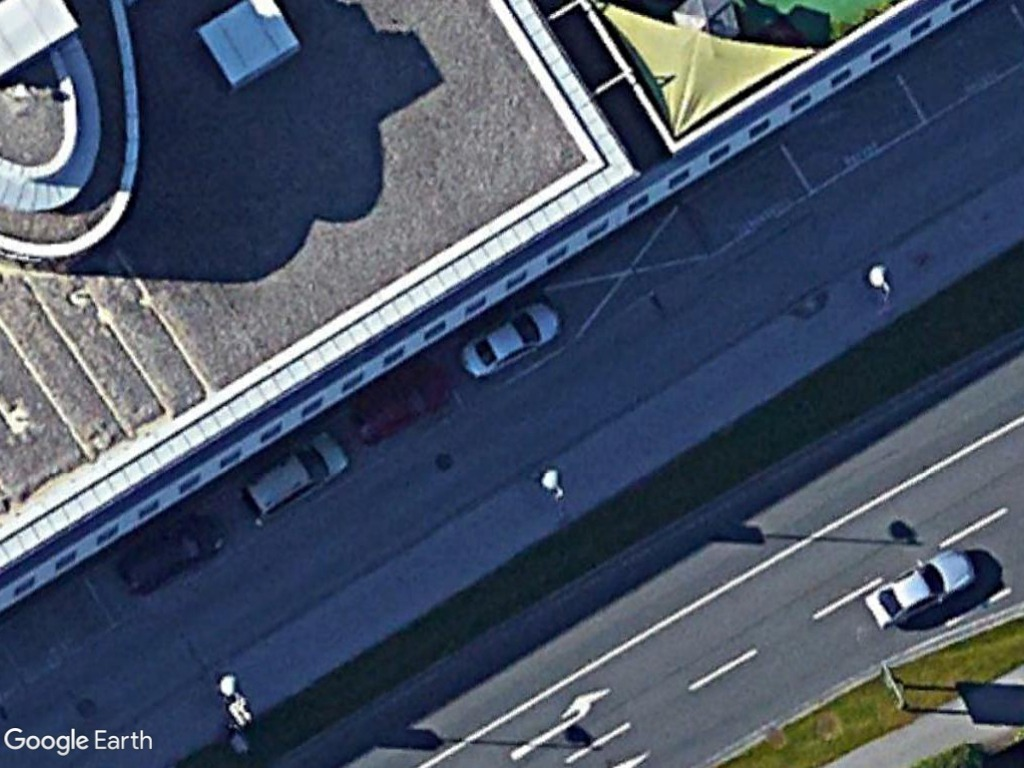car: (238, 429, 351, 524), (861, 546, 980, 635), (457, 300, 565, 384)
